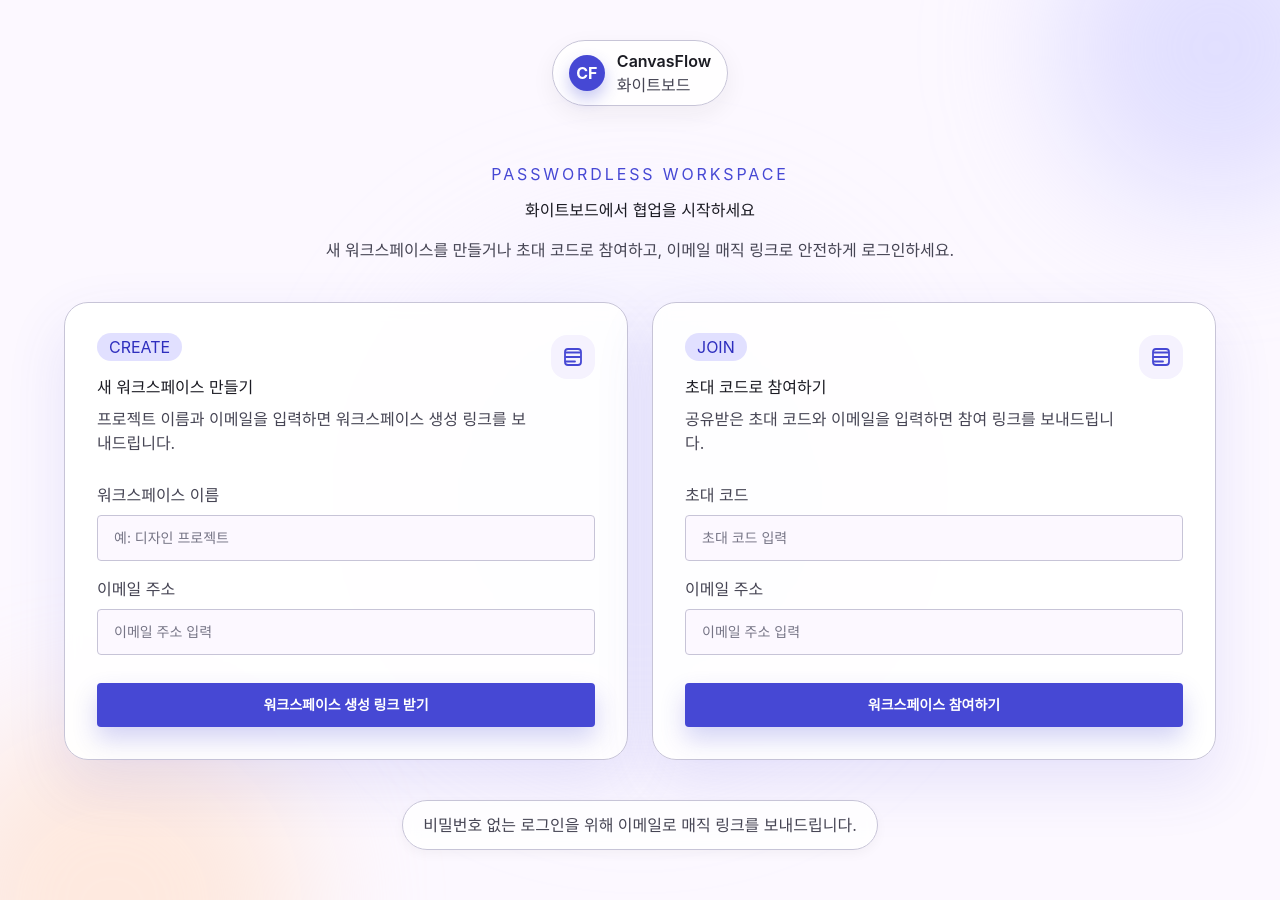
Test: WorkspaceAccessContainer › shows required validation messages before create API request
The image size is (1280, 900).
Click the button "워크스페이스 생성 링크 받기". click: (346, 705)
box: [97, 683, 595, 727]
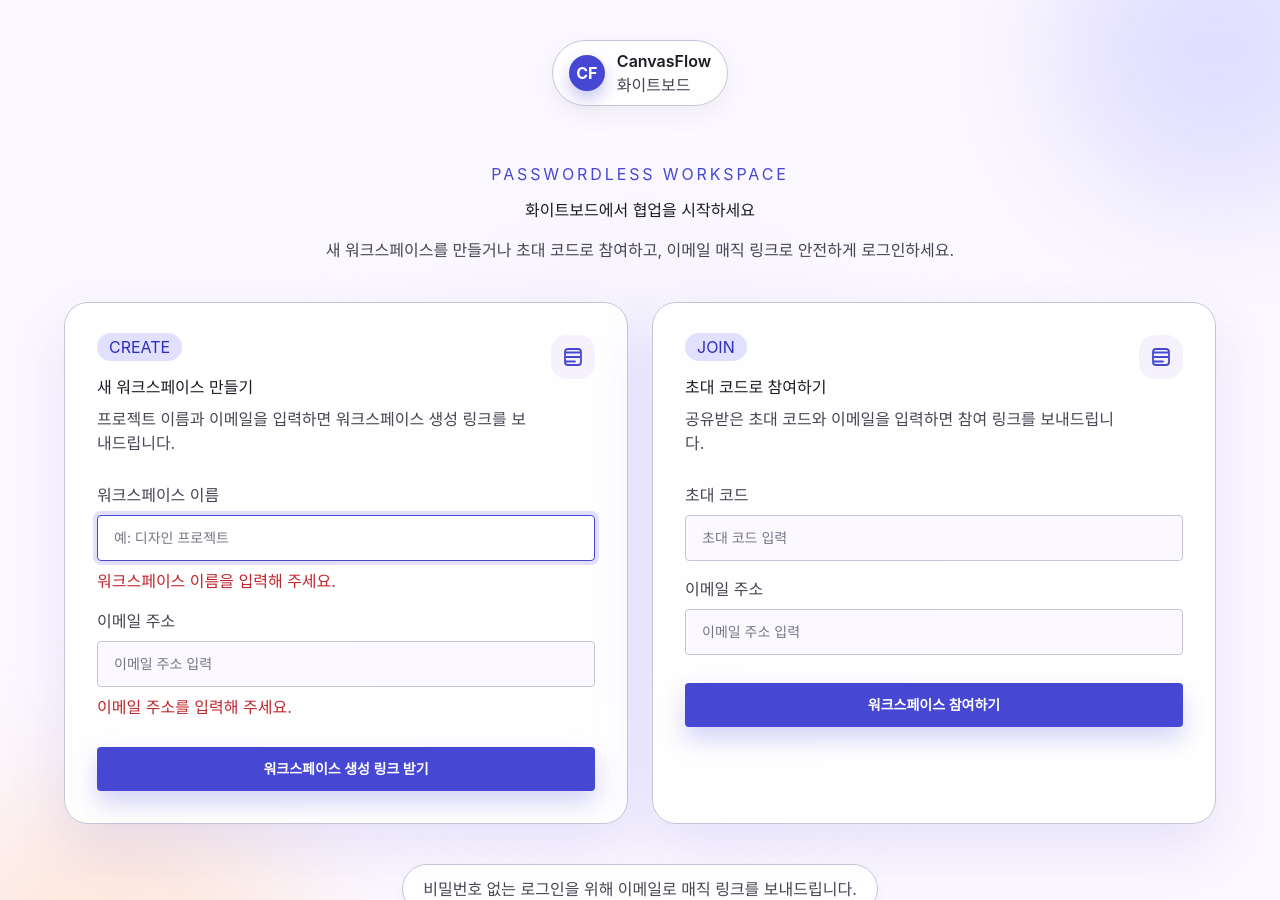
Now the text "워크스페이스 이름을 입력해 주세요." is shown, box [97, 571, 336, 591]
Now the text "이메일 주소를 입력해 주세요." is shown, box [97, 697, 292, 717]
